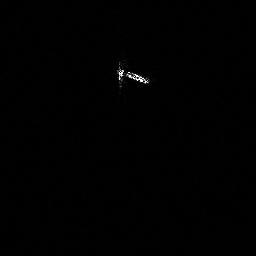ship: (118, 68, 148, 84)
